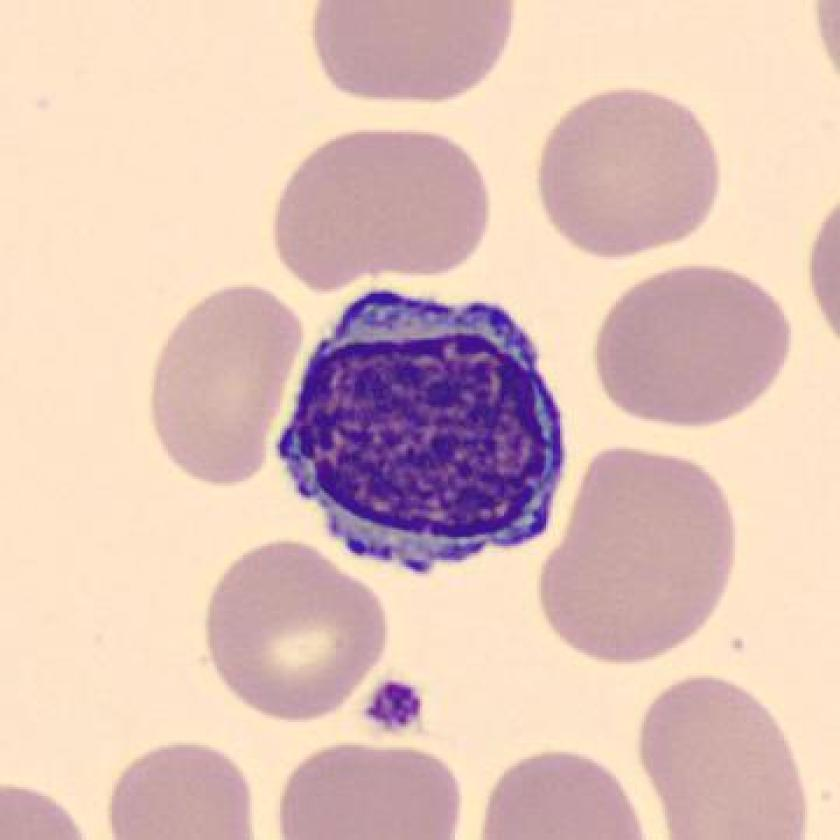lymphocyte: (258, 270, 598, 587)
